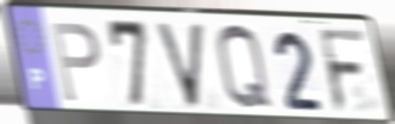2: (269, 24, 329, 115)
7: (103, 16, 152, 112)
F: (316, 26, 371, 116)
P: (48, 19, 102, 105)
Q: (214, 22, 277, 115)
V: (152, 20, 207, 112)
